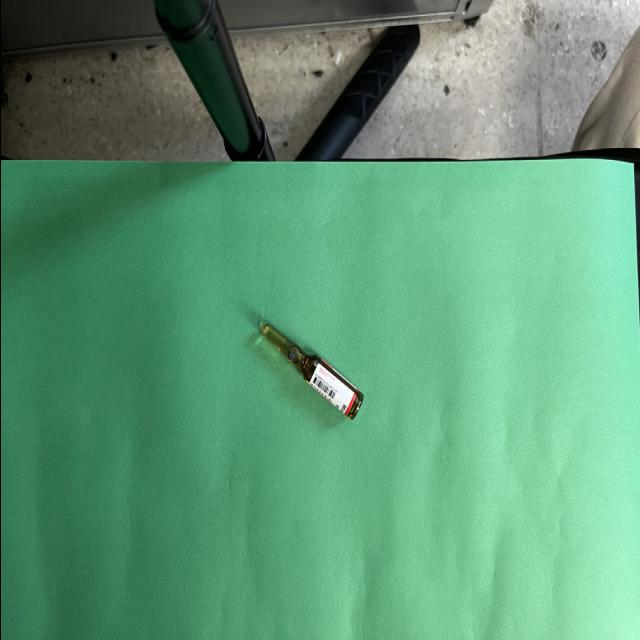Ampoules: (260, 323, 362, 419)
